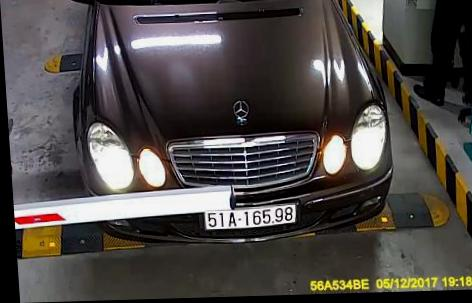License_Plate: (201, 202, 307, 232)
